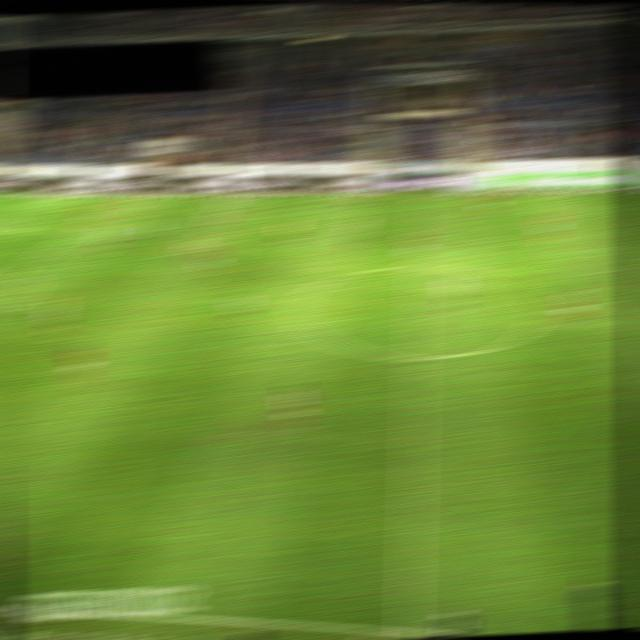bigarea_top_inner: (59, 226, 86, 237)
halfcircle_bottom: (402, 350, 430, 365)
halfcircle_top: (405, 261, 431, 272)
midline_bottom_intersection: (396, 627, 422, 639)
midline_top_intersection: (408, 192, 434, 203)
top_arc_area_intersection: (5, 266, 31, 277)
